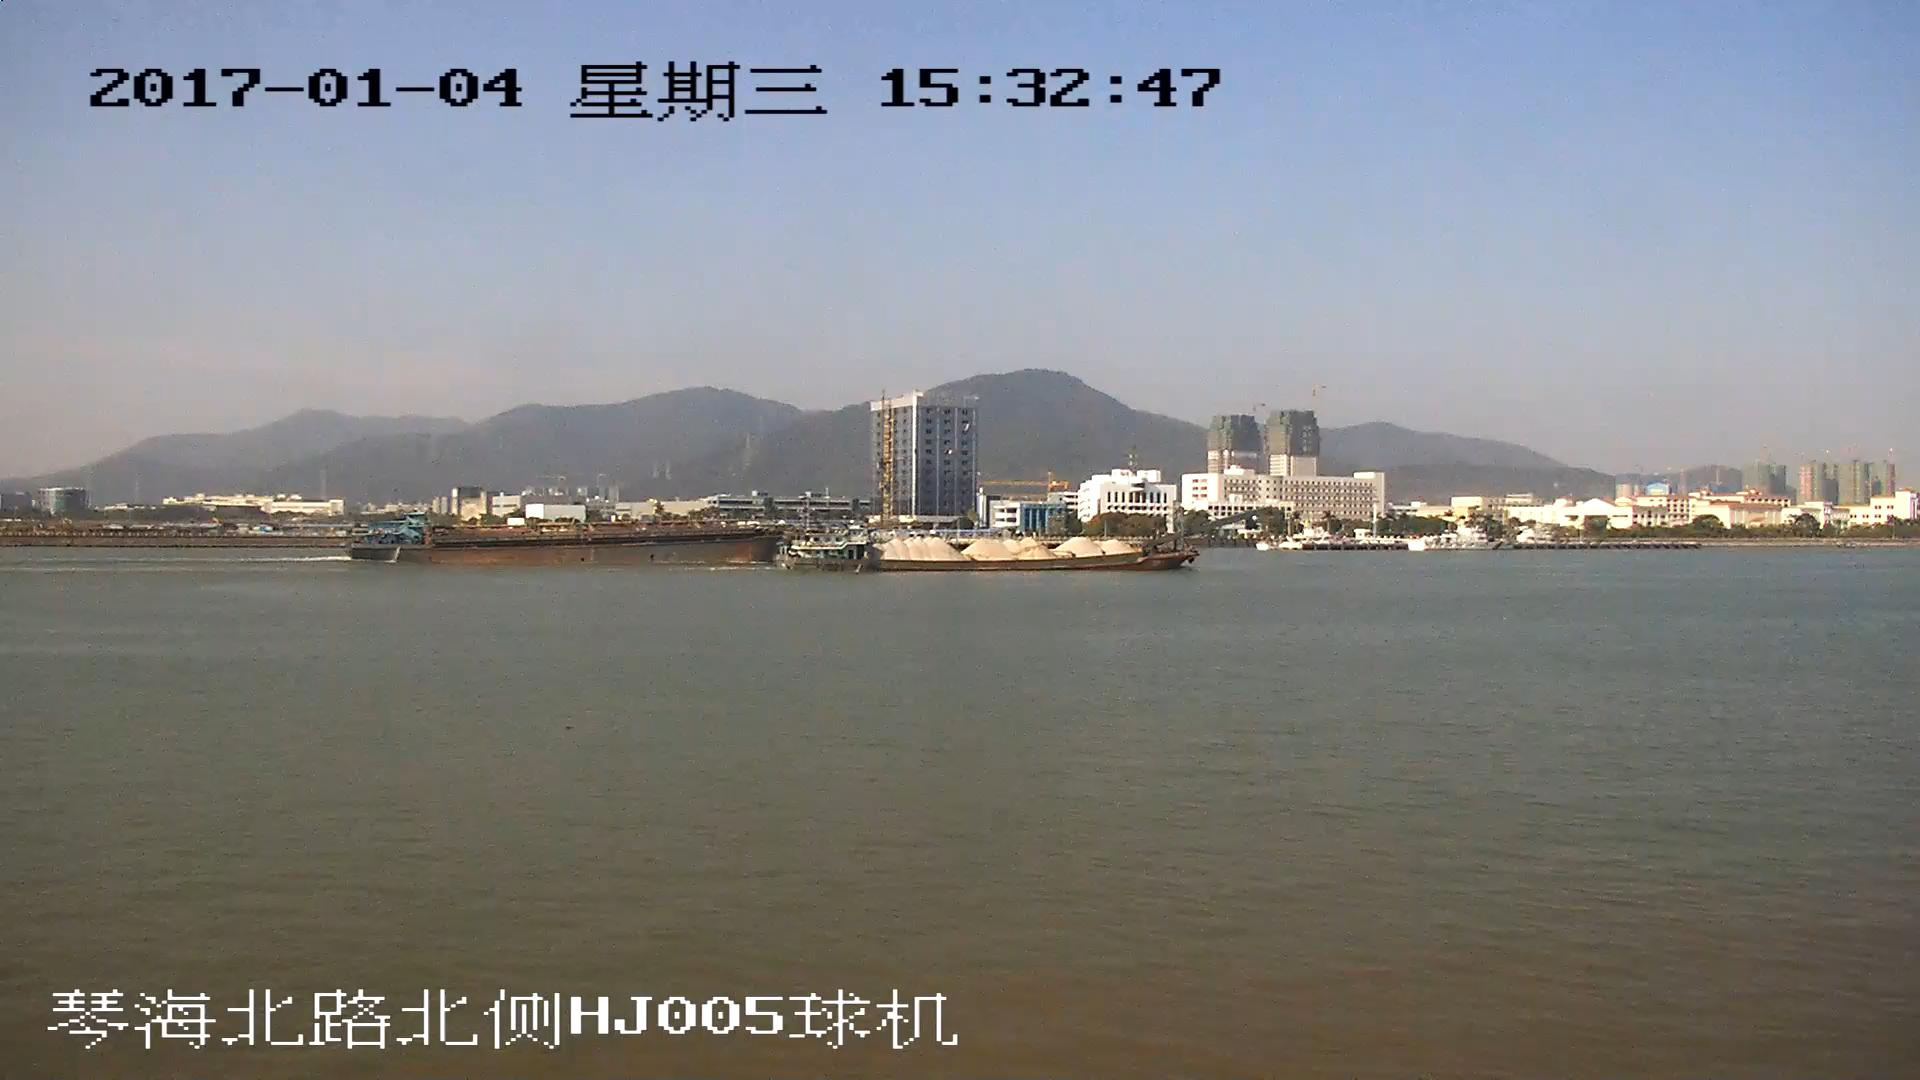bulk cargo carrier: (348, 514, 788, 565)
ore carrier: (795, 508, 1263, 574)
